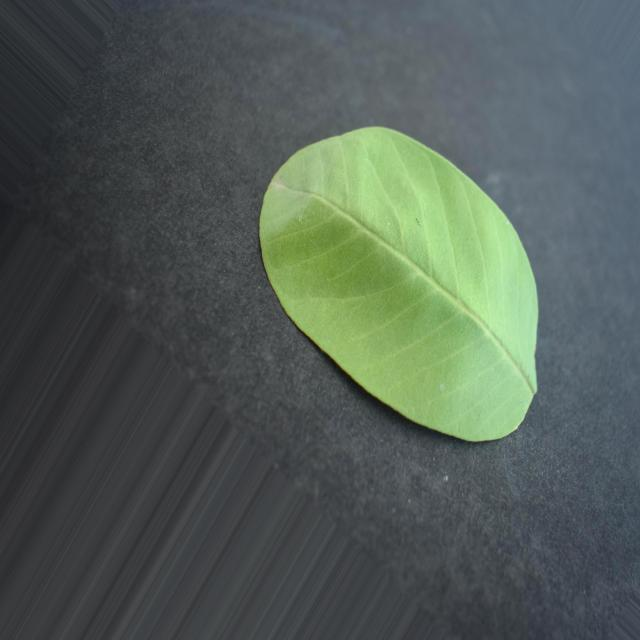Healthy: (260, 128, 538, 441)
